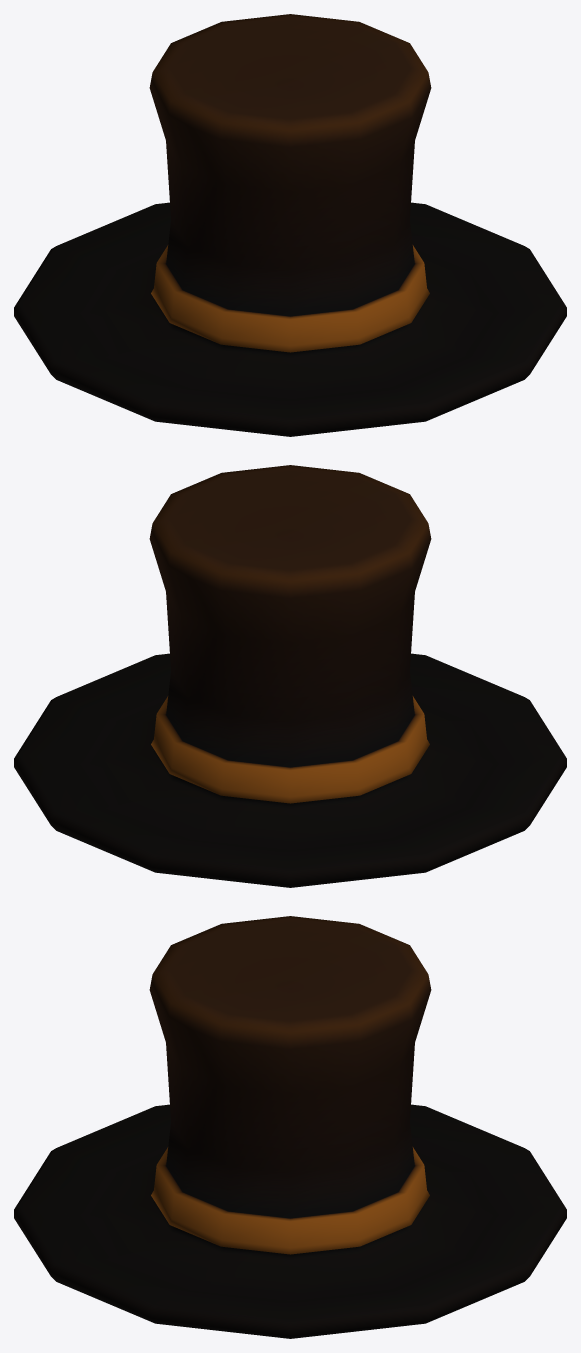
File: Cylinder_cap_02.fbx
3 views of the same model, one above another, from view 1: azimuth 30°, elevation 25°; view 2: azimuth 150°, elevation 25°; view 3: azimuth 270°, elevation 25° (orthographic).
Parts seen in each view (by area): view 1: Cylinder_cap_02; view 2: Cylinder_cap_02; view 3: Cylinder_cap_02.
Part boxes in pixels (x1,y1,x2,y2): Cylinder_cap_02: [14, 14, 566, 436]; Cylinder_cap_02: [14, 465, 566, 887]; Cylinder_cap_02: [14, 916, 566, 1338].
Bounding box in the file's own units: 124 × 65.78 × 124.
